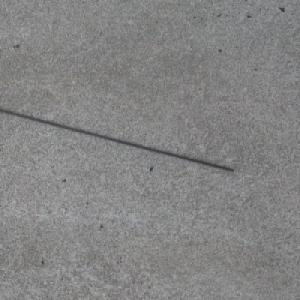LuggagePart: (0, 108, 235, 173)
